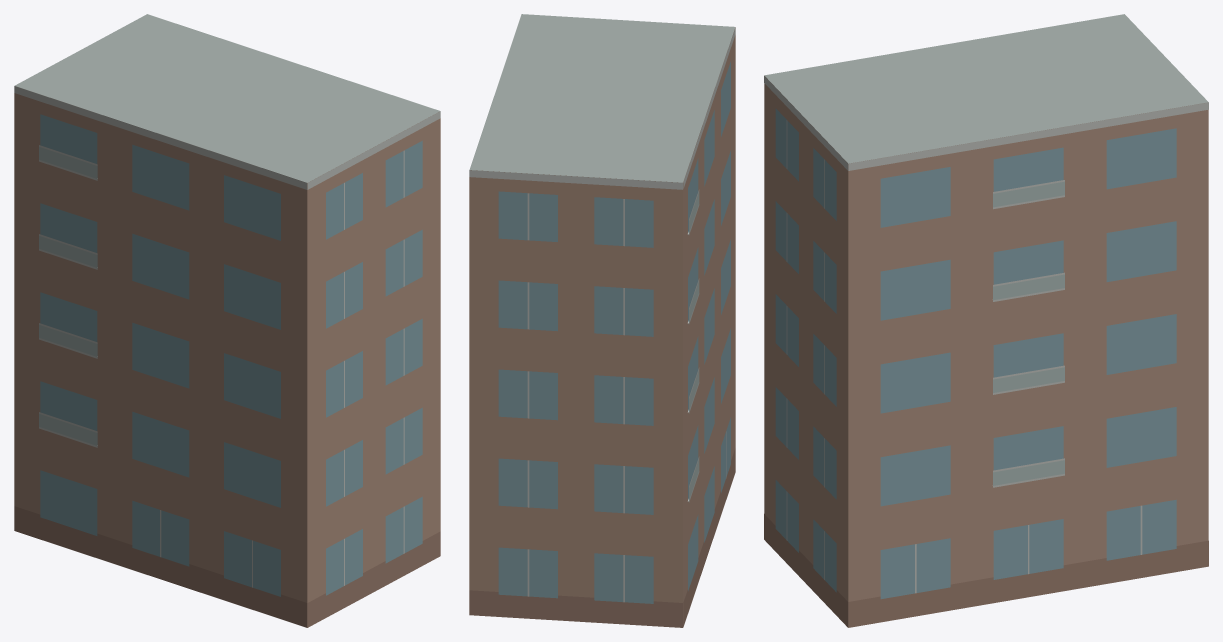
The model's file is residential-08998179-cd46-4040-8c8a-dbdc1a2b947d.glb.
The picture shows the model from 3 angles, left to right: view 1: azimuth 30°, elevation 25°; view 2: azimuth 150°, elevation 25°; view 3: azimuth 270°, elevation 25°; orthographic projection. The views are drawn at different scales.
Visible parts, largest first — view 1: residential-08998179-cd46-4040-8c8a-dbdc1a2b947d.tmp; view 2: residential-08998179-cd46-4040-8c8a-dbdc1a2b947d.tmp; view 3: residential-08998179-cd46-4040-8c8a-dbdc1a2b947d.tmp.
Part boxes in pixels (x1,y1,x2,y2): residential-08998179-cd46-4040-8c8a-dbdc1a2b947d.tmp: (14, 14, 440, 627); residential-08998179-cd46-4040-8c8a-dbdc1a2b947d.tmp: (469, 14, 735, 627); residential-08998179-cd46-4040-8c8a-dbdc1a2b947d.tmp: (764, 14, 1208, 627).
Bounding box in the file's own units: 10.55 × 15.25 × 13.25.
